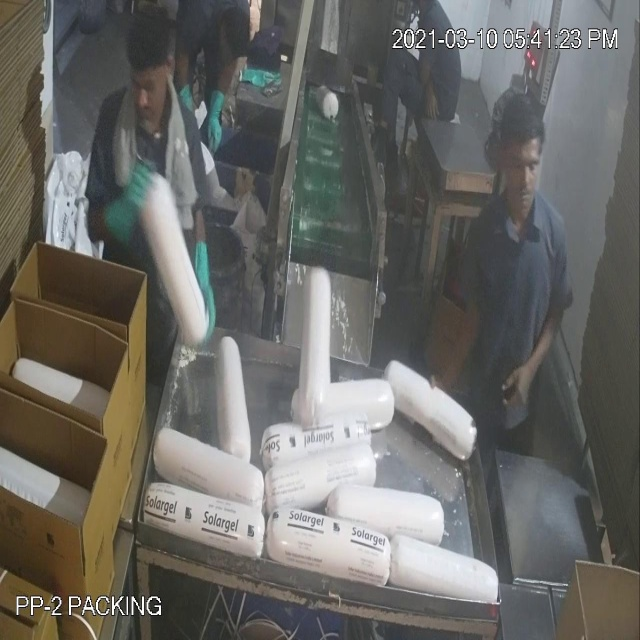Guantes: (95, 154, 164, 246), (182, 231, 226, 351)
Sin_guantes: (487, 295, 578, 421), (424, 280, 488, 415)
